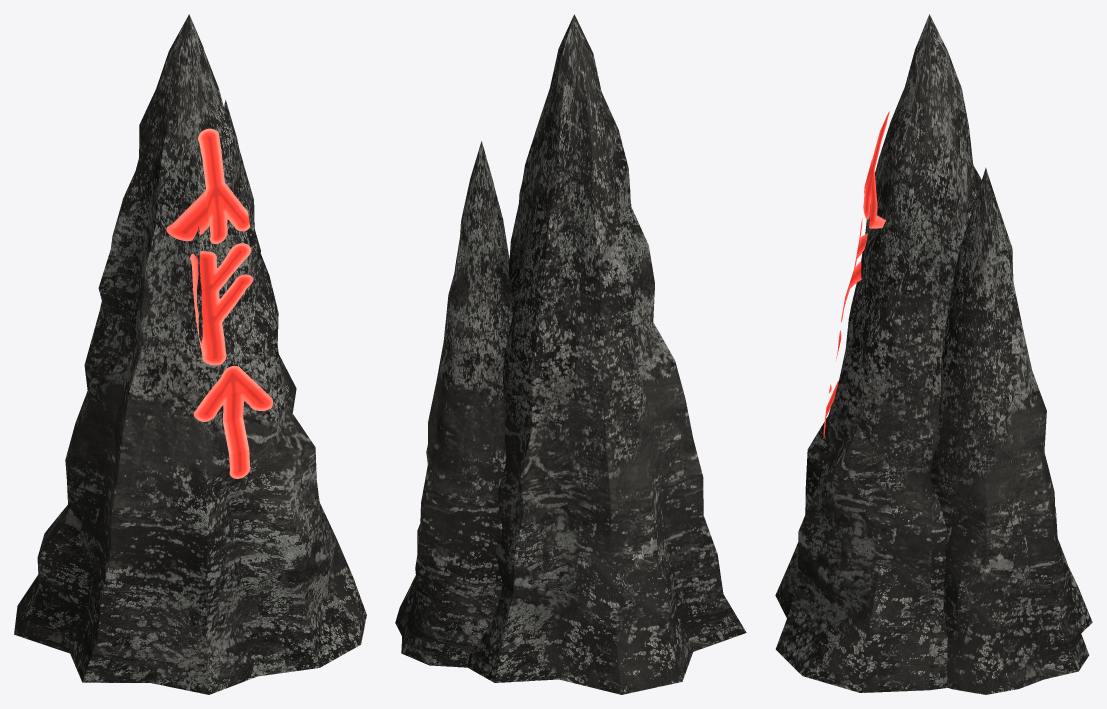
The model's file is mm8_deco_runepost16.glb.
3 views of the same model, side by side, from view 1: azimuth 30°, elevation 25°; view 2: azimuth 150°, elevation 25°; view 3: azimuth 270°, elevation 25° (orthographic).
Visible parts, largest first — view 1: Runepost16; view 2: Runepost16; view 3: Runepost16.
Boxes of the visible parts, x1=… form: Runepost16: x1=14, y1=14, x2=366, y2=694; Runepost16: x1=395, y1=14, x2=746, y2=694; Runepost16: x1=775, y1=14, x2=1092, y2=694.
Size of the model in its own units: 0.7514 by 1.52 by 0.7161.
2 materials, 2 textured.
